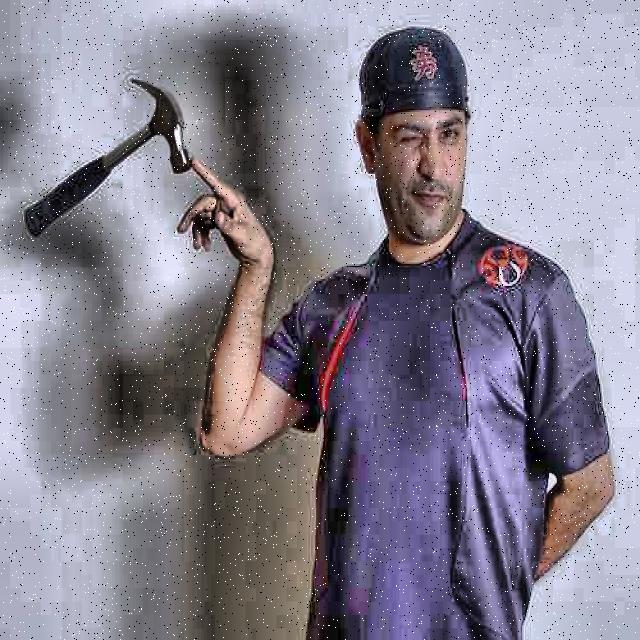hammer: (25, 78, 193, 254)
